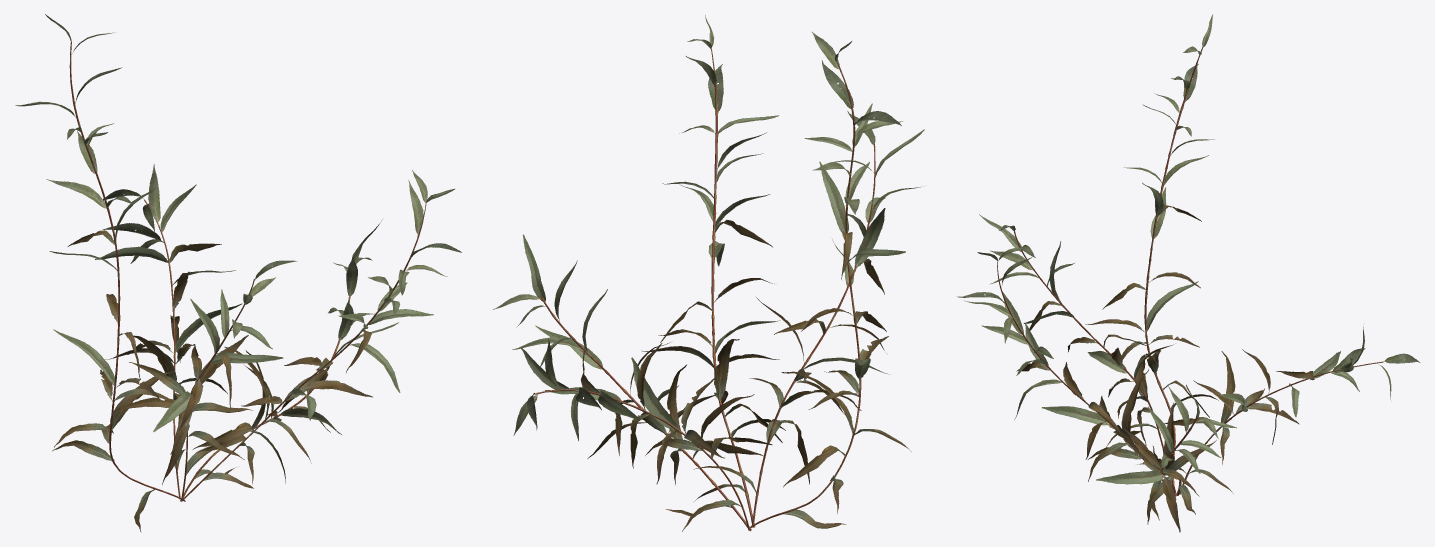
File: understory.glb
The picture shows the model from 3 angles, left to right: view 1: azimuth 30°, elevation 25°; view 2: azimuth 150°, elevation 25°; view 3: azimuth 270°, elevation 25°; orthographic projection. The views are drawn at different scales.
Size of the model in its own units: 1.31 by 1.69 by 1.64.
Materials: 1 (1 with a texture image).
